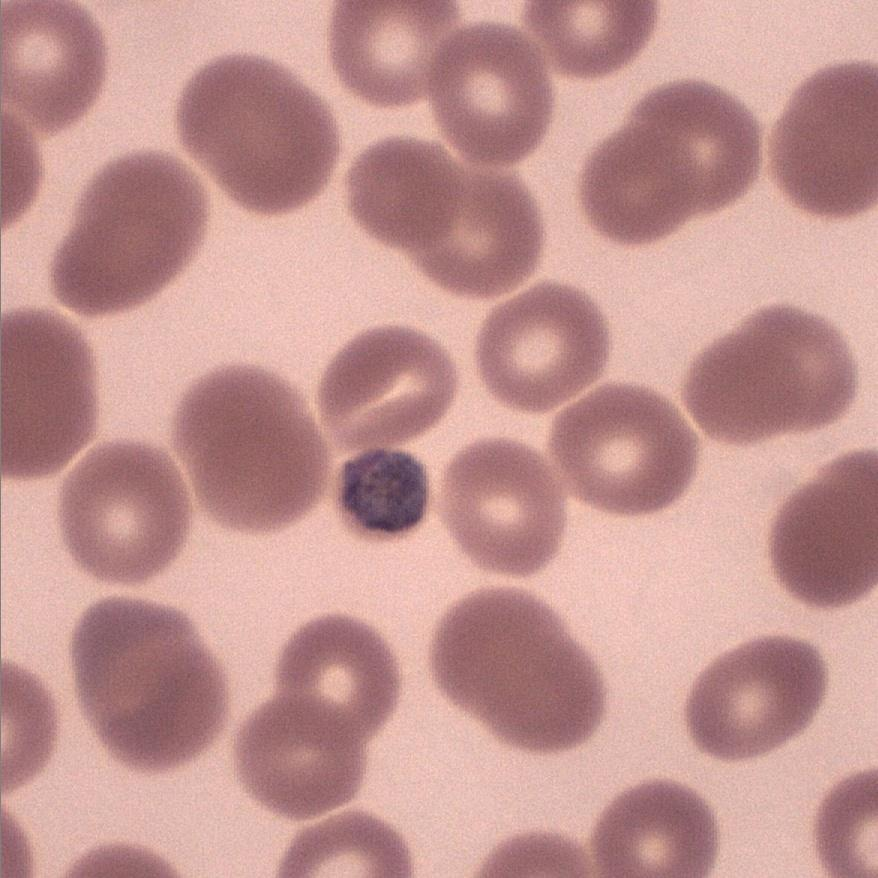Infected: (335, 433, 438, 546)
Uninfected: (180, 56, 328, 203), (53, 438, 200, 580), (557, 376, 692, 520), (690, 628, 830, 760), (430, 583, 565, 716), (443, 428, 563, 573), (90, 631, 217, 768), (430, 21, 550, 163), (320, 321, 458, 443), (238, 686, 363, 820), (193, 411, 330, 531), (772, 61, 878, 216), (0, 306, 98, 473), (412, 178, 542, 301), (490, 291, 615, 416), (280, 608, 400, 736), (330, 0, 468, 108), (638, 81, 758, 204), (775, 463, 878, 603), (70, 591, 187, 710), (85, 148, 200, 269), (0, 8, 107, 134), (750, 306, 855, 433), (590, 776, 717, 878), (585, 128, 698, 241), (340, 131, 448, 244), (175, 371, 302, 465), (680, 331, 798, 430), (500, 646, 605, 755), (60, 218, 172, 310), (515, 0, 660, 63)
